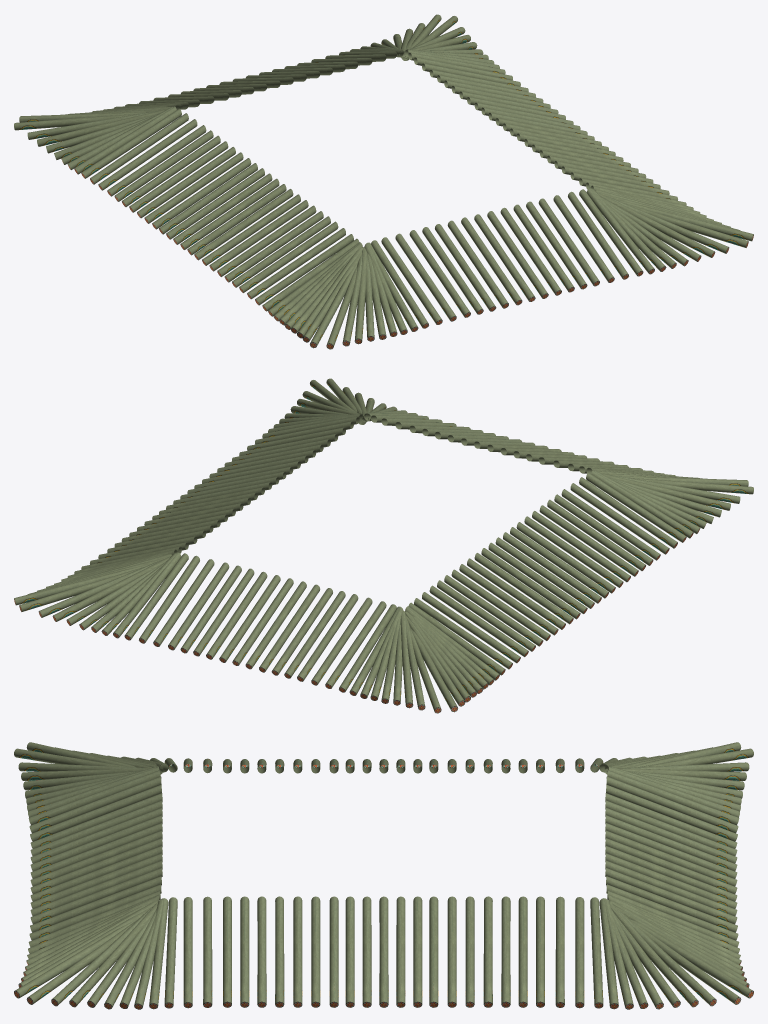
File: SM_Seokkalae02A.fbx
The picture shows the model from 3 angles, top to bottom: view 1: azimuth 30°, elevation 25°; view 2: azimuth 150°, elevation 25°; view 3: azimuth 270°, elevation 25°; orthographic projection. The views are drawn at different scales.
Parts seen in each view (by area): view 1: SM_Seokkalae02A; view 2: SM_Seokkalae02A; view 3: SM_Seokkalae02A.
Part boxes in pixels (box(x1,y1,x2,y2)): SM_Seokkalae02A: box(14, 14, 753, 349); SM_Seokkalae02A: box(14, 378, 753, 713); SM_Seokkalae02A: box(14, 742, 753, 1009).
Size of the model in its own units: 1477 by 1798 by 155.
1 material, 1 textured.
